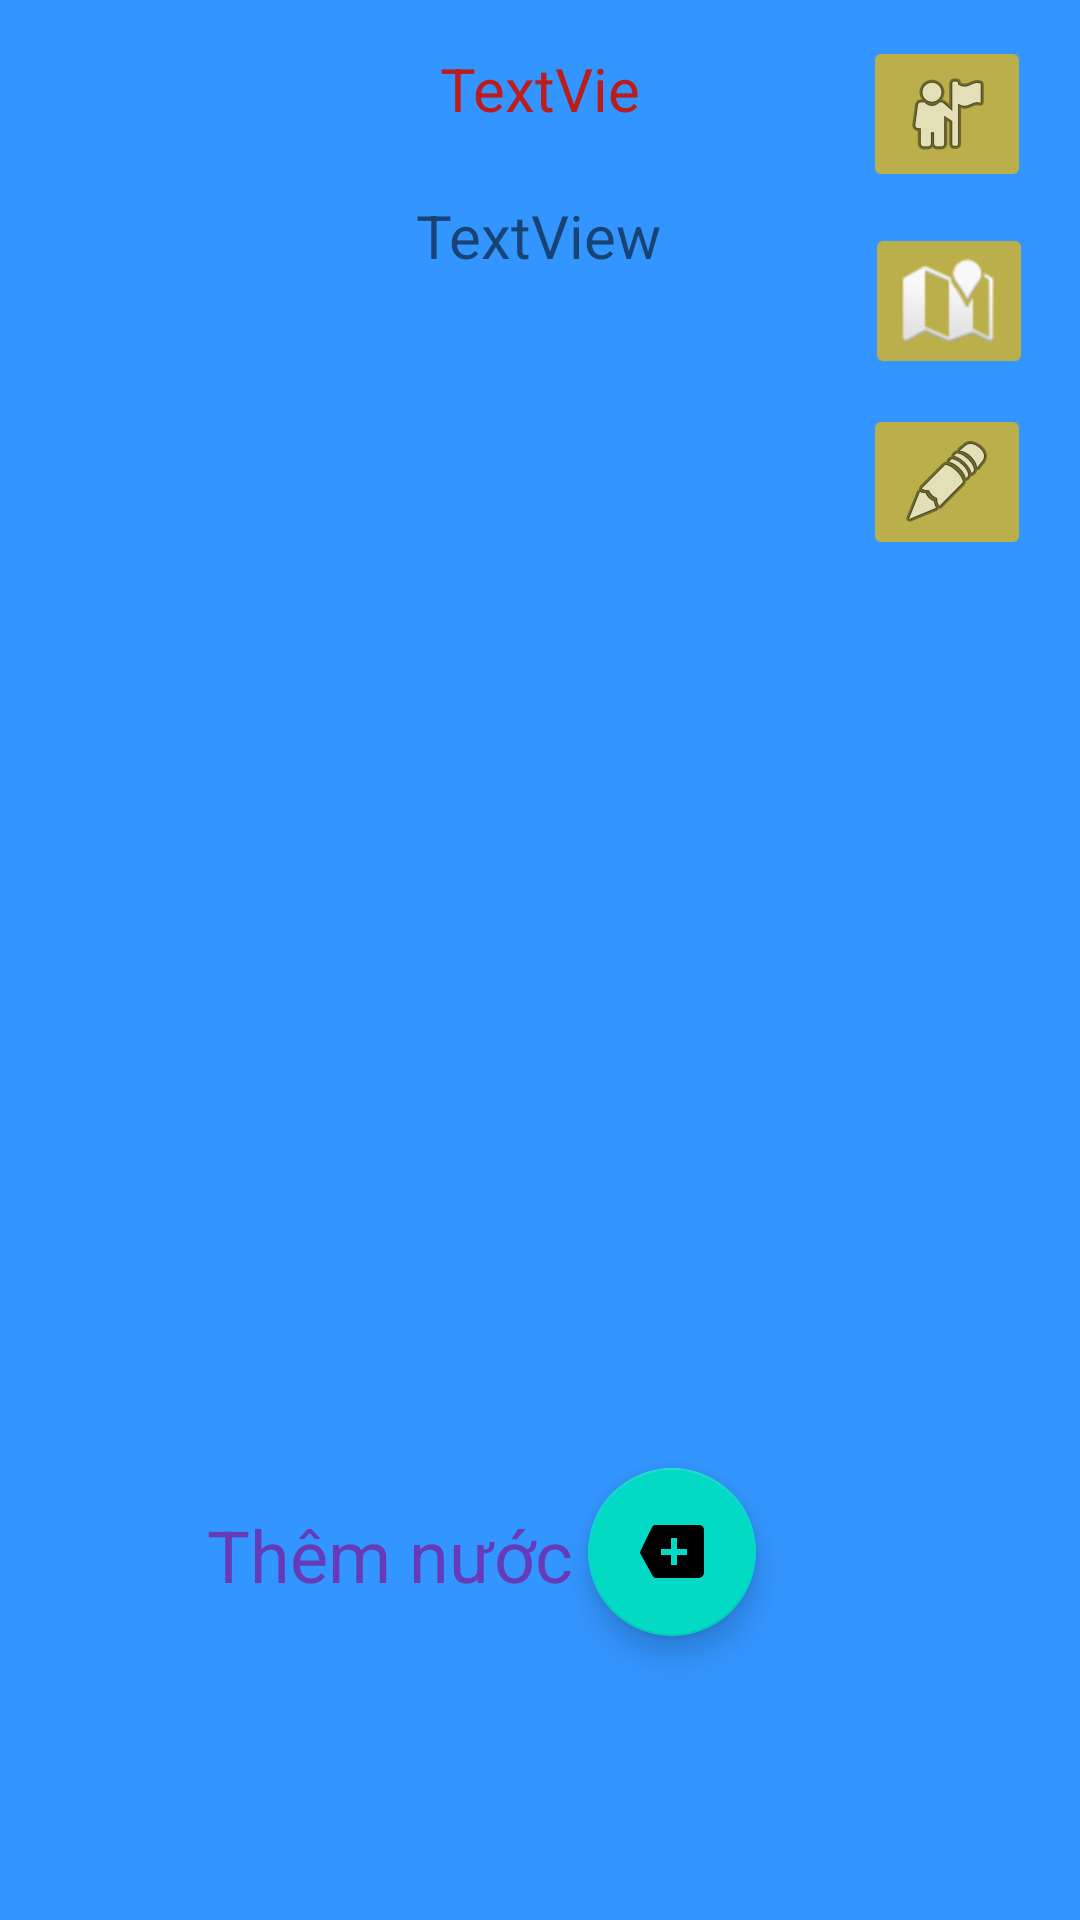

Where icons sit on this 1080x1920 app screen, as (x1, y1, x2, y2):
edit: (875, 422, 1019, 542)
map: (877, 241, 1021, 361)
myplaces: (875, 54, 1019, 174)
